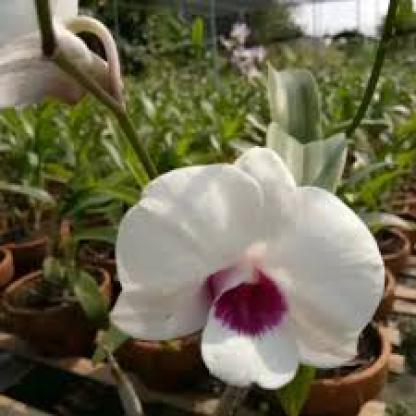ANGGREK: (99, 95, 382, 395)
